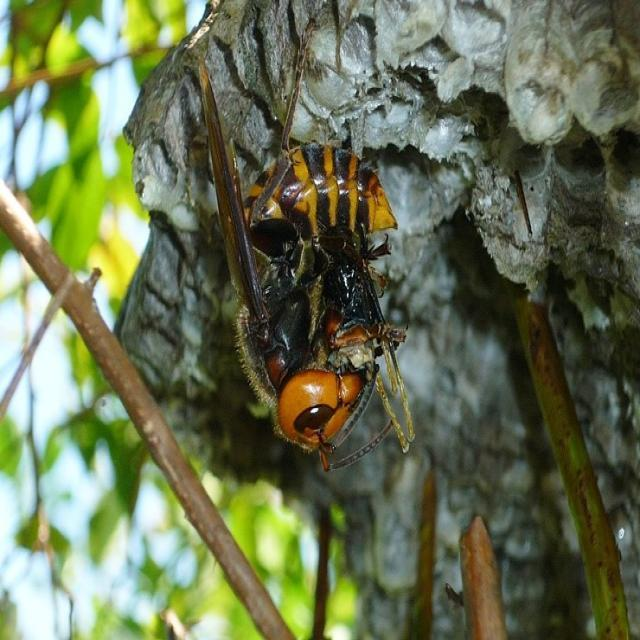Wasp: (190, 50, 406, 484)
